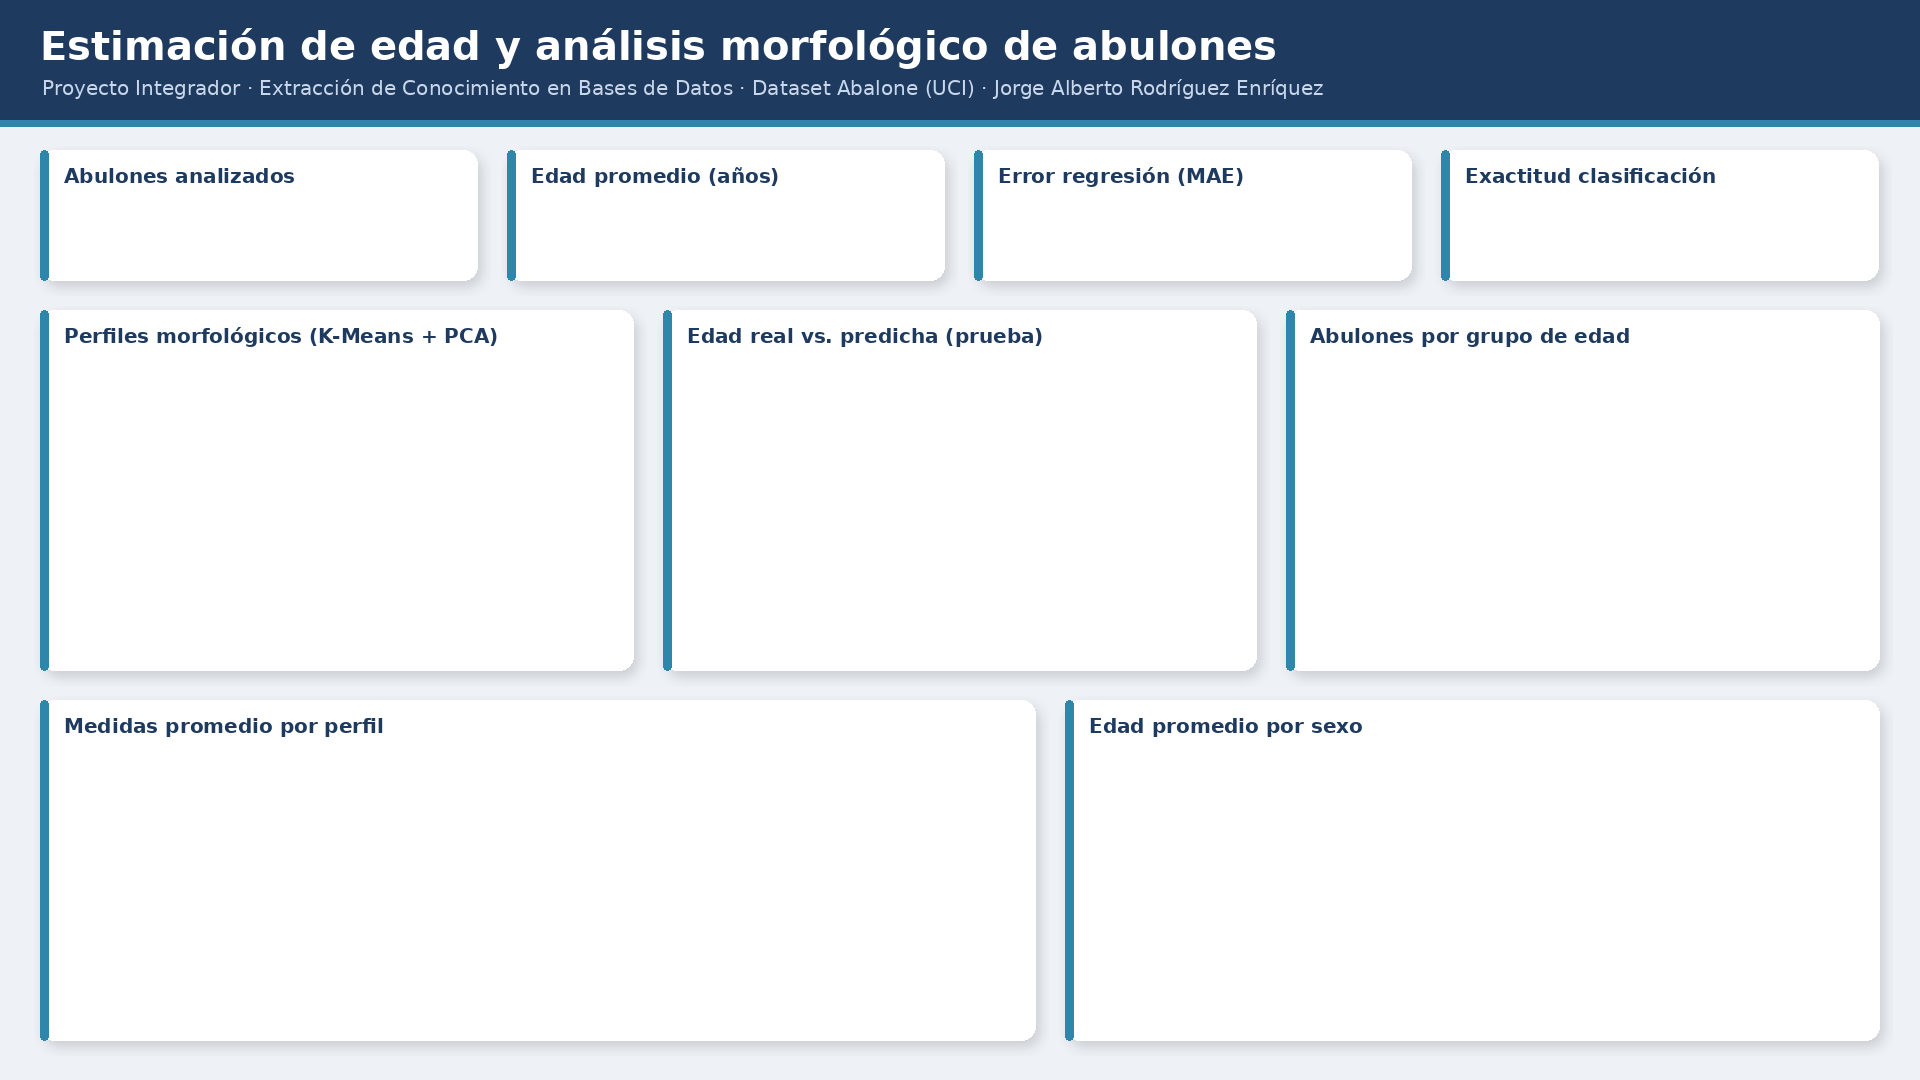

What the dashboard file says about the page in this screenshot:
{"tool":"powerbi","page":{"name":"Página 1","canvas":[1920,1080],"ordinal":0},"visuals":[{"type":"cardVisual","fields":{"Data":["CountNonNull(vw_DM_Abalone.ID_Abulon)"]},"box":[67.5,180,397.5,92.5],"z":0},{"type":"cardVisual","fields":{"Data":["Avg(vw_DM_Abalone.Edad_Anios)","Avg(vw_DM_Abalone.Edad_Anios)"]},"box":[530,180,397.5,92.5],"z":1000},{"type":"cardVisual","fields":{"Data":["Avg(vw_DM_Abalone.Error_Absoluto)"]},"box":[1000,180,397.5,92.5],"z":2000},{"type":"cardVisual","fields":{"Data":["Sum(vw_DM_Desempeno_Modelos.Valor)"]},"box":[1472.5,180,397.5,92.5],"z":3000},{"type":"scatterChart","fields":{"Category":["vw_DM_Abalone.ID_Abulon"],"Series":["vw_DM_Abalone.Perfil_Morfologico"],"X":["Sum(vw_DM_Abalone.PC1)"],"Y":["Sum(vw_DM_Abalone.PC2)"]},"box":[67.8,357.8,555.6,294.4],"z":3001},{"type":"scatterChart","fields":{"Category":["vw_DM_Abalone.ID_Abulon"],"X":["Sum(vw_DM_Abalone.Rings)"],"Y":["Sum(vw_DM_Abalone.Rings_Predicho)"]},"box":[684.4,357.8,562.2,303.3],"z":3002},{"type":"clusteredColumnChart","fields":{"Category":["vw_DM_Abalone.Grupo_Edad"],"Y":["CountNonNull(vw_DM_Abalone.ID_Abulon)"]},"box":[1310,355,542.5,297.5],"z":3003},{"type":"clusteredBarChart","fields":{"Category":["vw_DM_Resumen_Perfil.Perfil_Morfologico"],"Y":["Avg(vw_DM_Abalone.Longitud_mm)","Avg(vw_DM_Abalone.Peso_Total_g)","Avg(vw_DM_Abalone.Peso_Concha_g)"]},"box":[70,742.5,930,272.5],"z":3004},{"type":"clusteredBarChart","fields":{"Category":["vw_DM_Abalone.Sexo"],"Y":["Avg(vw_DM_Abalone.Edad_Anios)"]},"box":[1110,742.5,760,272.5],"z":3005}]}

Visuals, with their boxes in screenshot pixels (x1, y1, x2, y2), scaled from the page's 1920x1080 canvas onto the 1920x1080 screenshot:
cardVisual - CountNonNull(vw_DM_Abalone.ID_Abulon): [x1=68, y1=180, x2=465, y2=272]
cardVisual - Avg(vw_DM_Abalone.Edad_Anios) x Avg(vw_DM_Abalone.Edad_Anios): [x1=530, y1=180, x2=928, y2=272]
cardVisual - Avg(vw_DM_Abalone.Error_Absoluto): [x1=1000, y1=180, x2=1398, y2=272]
cardVisual - Sum(vw_DM_Desempeno_Modelos.Valor): [x1=1472, y1=180, x2=1870, y2=272]
scatterChart - vw_DM_Abalone.ID_Abulon x vw_DM_Abalone.Perfil_Morfologico: [x1=68, y1=358, x2=623, y2=652]
scatterChart - vw_DM_Abalone.ID_Abulon x Sum(vw_DM_Abalone.Rings): [x1=684, y1=358, x2=1247, y2=661]
clusteredColumnChart - vw_DM_Abalone.Grupo_Edad x CountNonNull(vw_DM_Abalone.ID_Abulon): [x1=1310, y1=355, x2=1852, y2=652]
clusteredBarChart - vw_DM_Resumen_Perfil.Perfil_Morfologico x Avg(vw_DM_Abalone.Longitud_mm): [x1=70, y1=742, x2=1000, y2=1015]
clusteredBarChart - vw_DM_Abalone.Sexo x Avg(vw_DM_Abalone.Edad_Anios): [x1=1110, y1=742, x2=1870, y2=1015]
